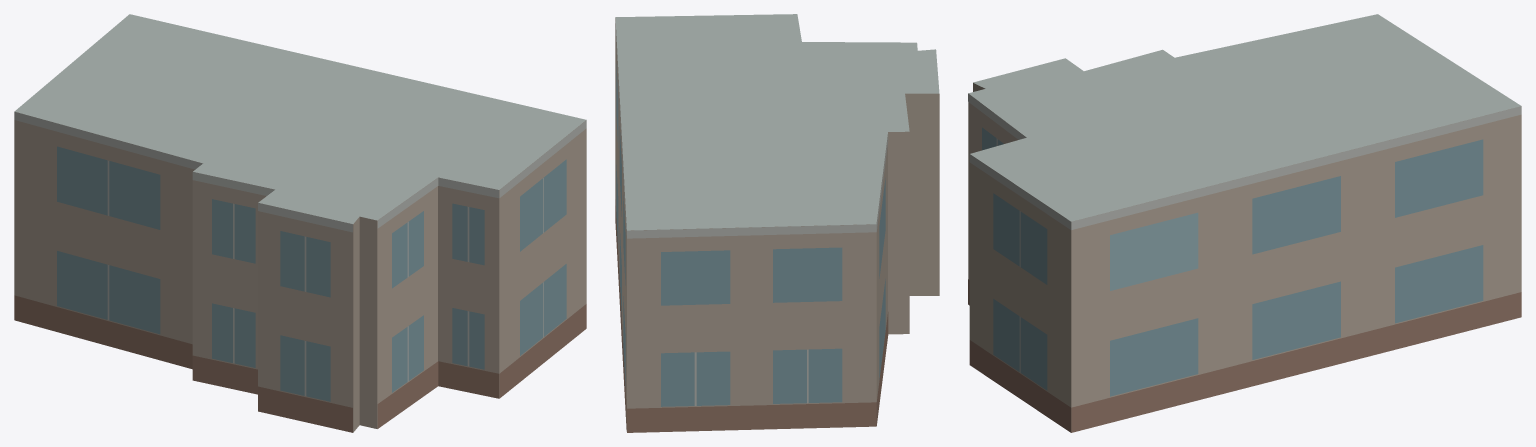
The model's file is survey-upis-33031907.glb.
3 renders of one model, left to right at view 1: azimuth 30°, elevation 25°; view 2: azimuth 150°, elevation 25°; view 3: azimuth 270°, elevation 25°, orthographic. The views are drawn at different scales.
Visible parts, largest first — view 1: survey-upis-33031907.tmp; view 2: survey-upis-33031907.tmp; view 3: survey-upis-33031907.tmp.
Boxes of the visible parts, left/top/right/bottom form: survey-upis-33031907.tmp: left=14, top=14, right=586, bottom=432; survey-upis-33031907.tmp: left=615, top=14, right=939, bottom=432; survey-upis-33031907.tmp: left=968, top=14, right=1521, bottom=432.
Size of the model in its own units: 12.88 by 6.1 by 14.5.
